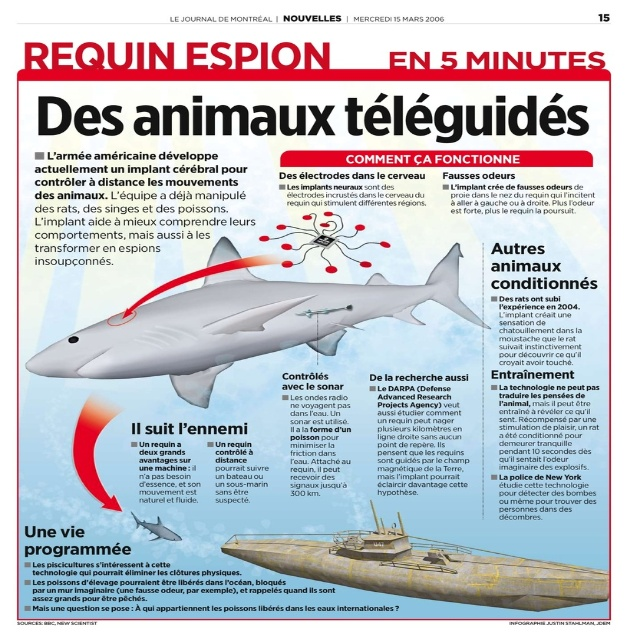Shark: (23, 220, 493, 416)
